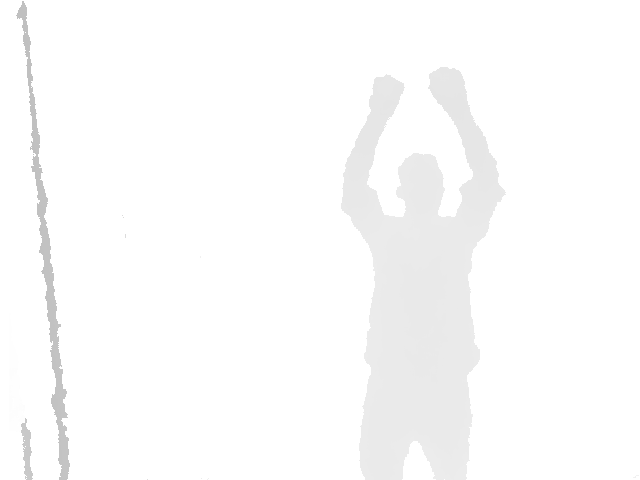hand: (429, 67, 468, 118), (369, 74, 405, 125)
head: (396, 153, 445, 215)
person: (339, 67, 508, 480)
